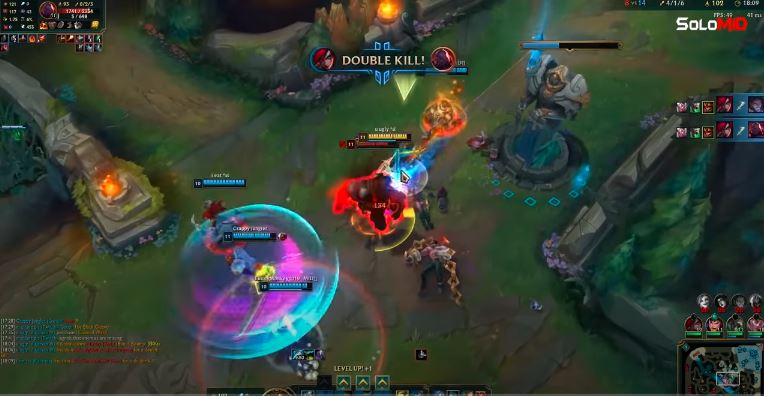bar: (220, 229, 279, 244), (258, 278, 316, 293), (191, 177, 250, 190), (356, 130, 413, 143), (414, 65, 470, 77), (344, 141, 399, 151)
